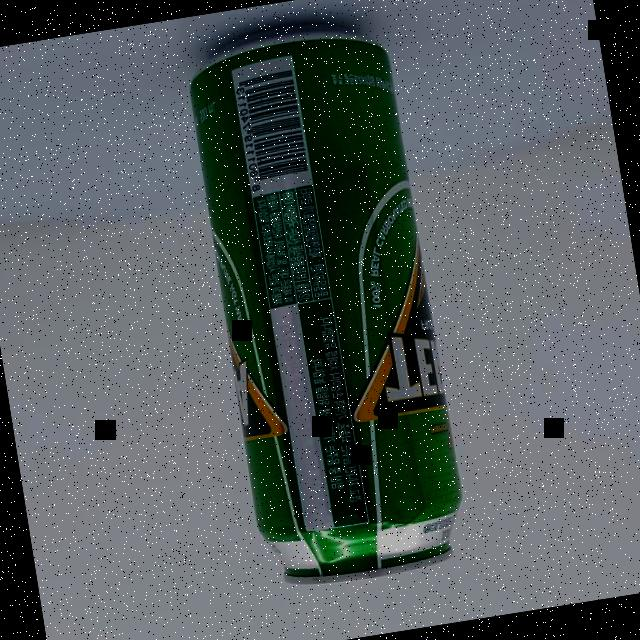can: (182, 10, 474, 595)
